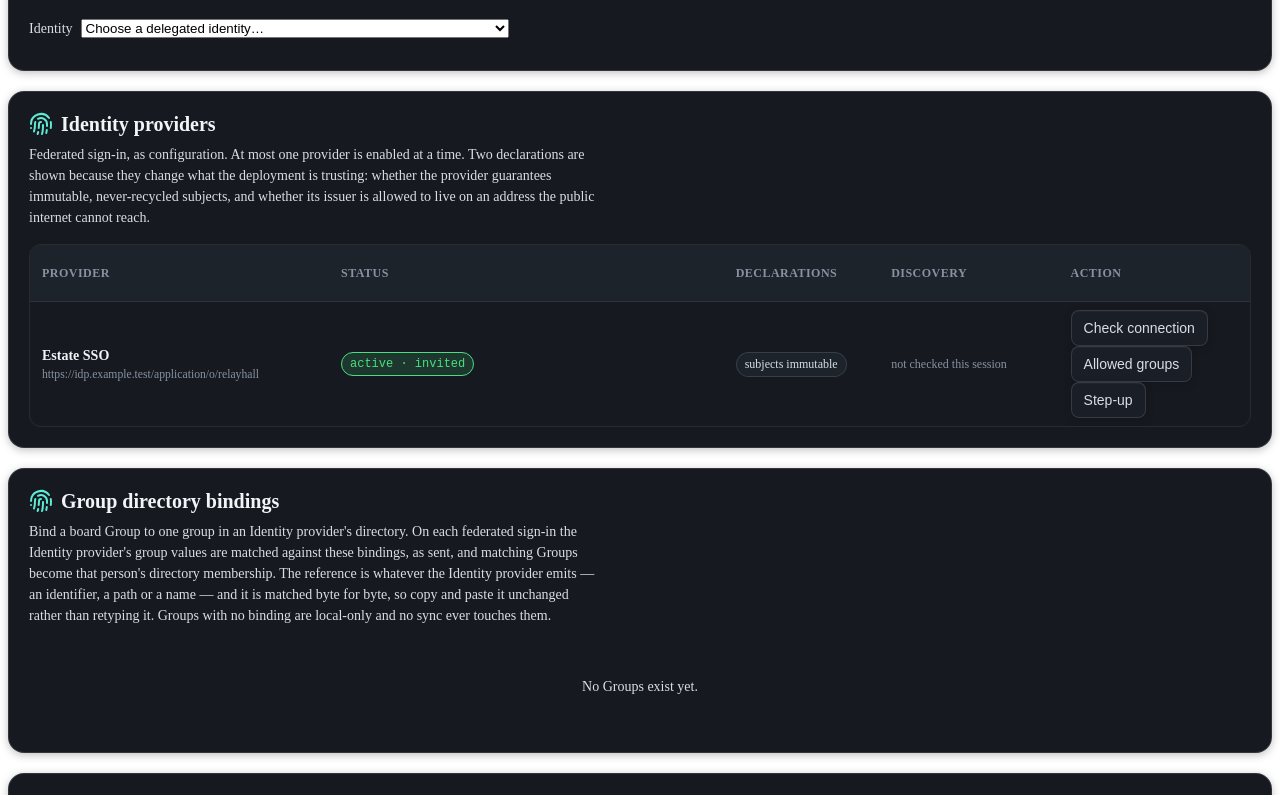
it: the fields round-trip through the PATCH › no policy shows the default request, and saving the owner's settings sends exactly them
(page scrolled)
Click the button with aria-label "Step-up for Estate SSO": (1108, 400) [1071, 382, 1146, 418]
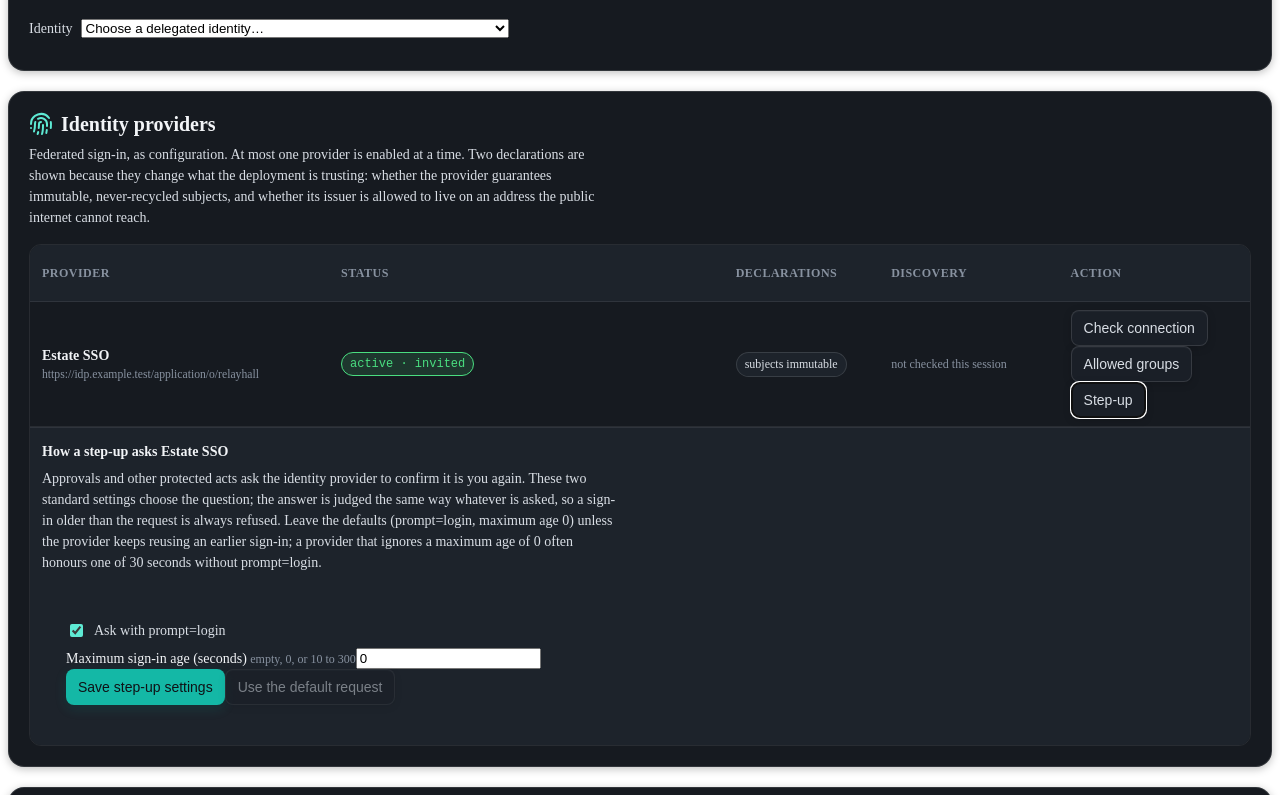
Now the checkbox labelled "Ask with prompt=login" is checked
Now the field labelled "Maximum sign-in age (seconds) empty, 0, or 10 to 300" holds "0", box [356, 648, 541, 669]
Now the button "Use the default request" is disabled, box [225, 669, 395, 705]
Click the checkbox labelled "Ask with prompt=login": (76, 630) [70, 624, 83, 637]
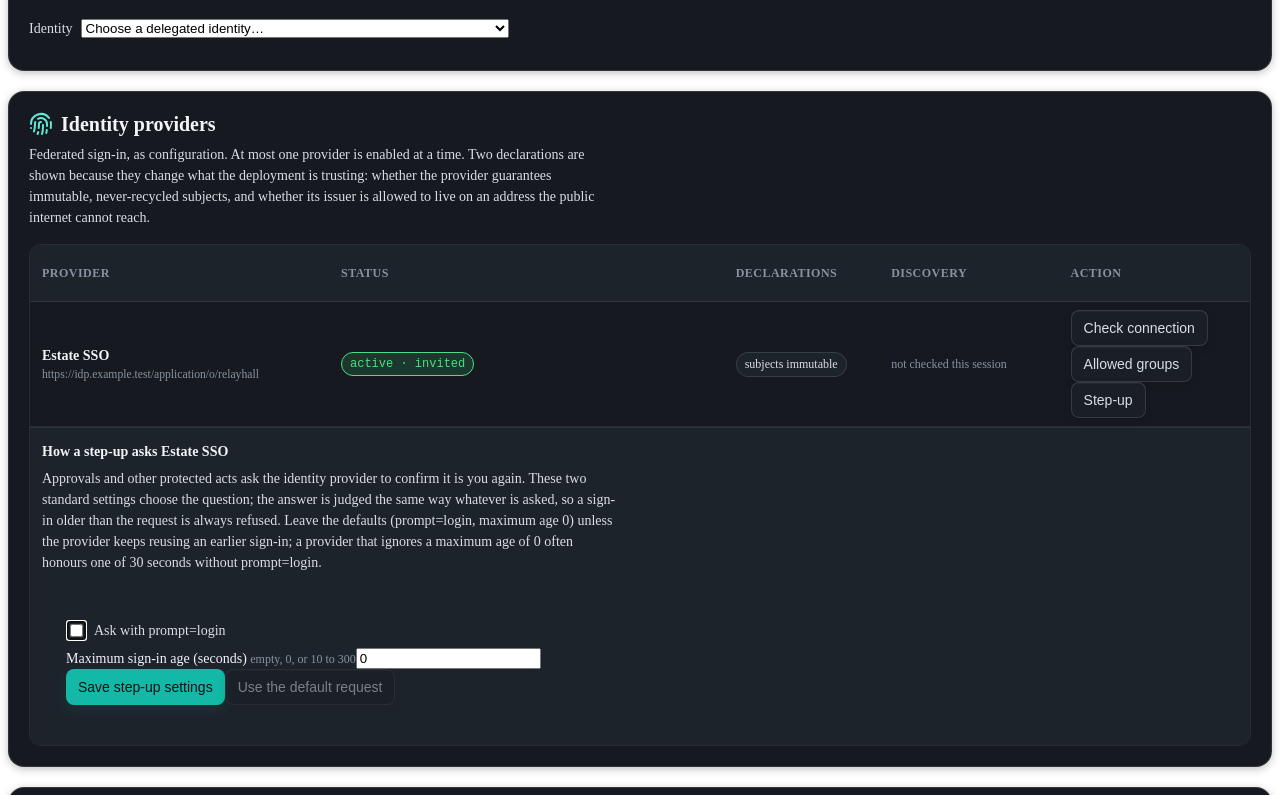
Replace the text in the field labelled "Maximum sign-in age (seconds) empty, 0, or 10 to 300" with "30": (448, 658) [356, 648, 541, 669]
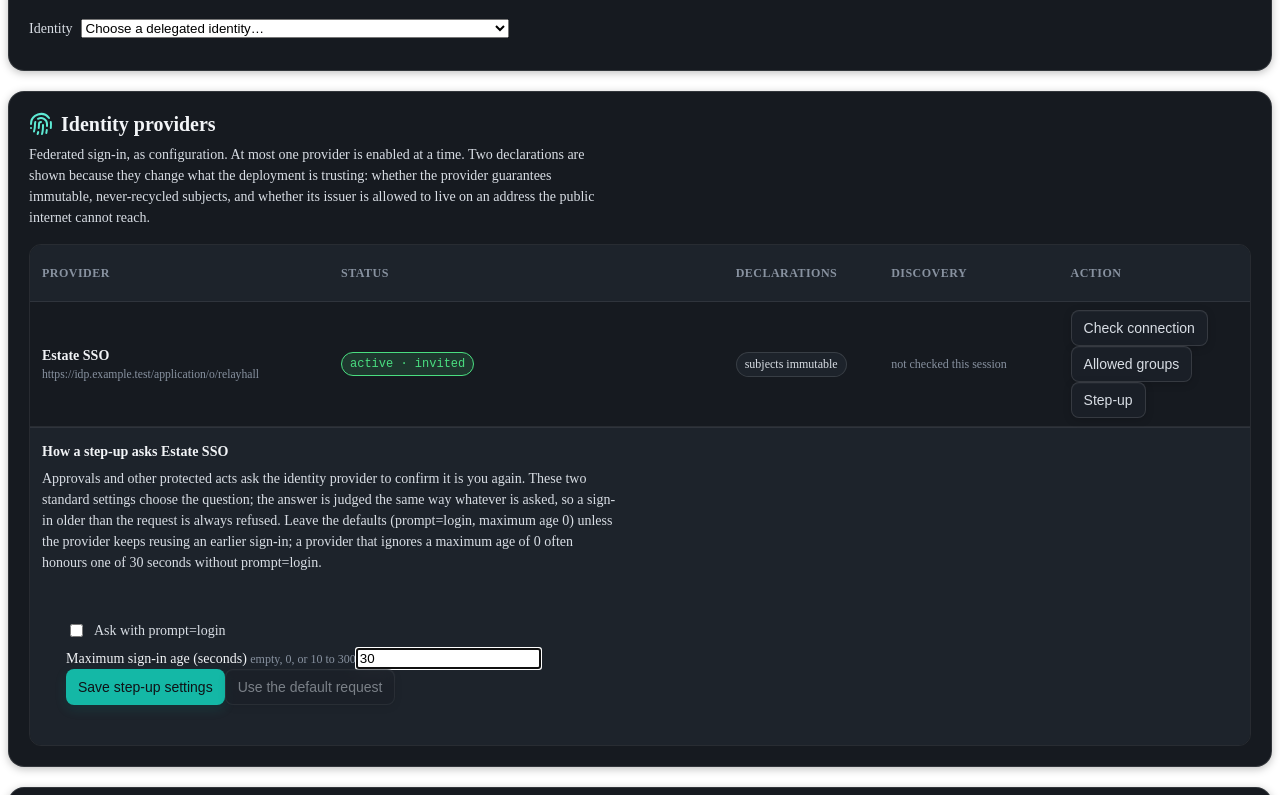
Click the button "Save step-up settings": (145, 687) [66, 669, 225, 705]
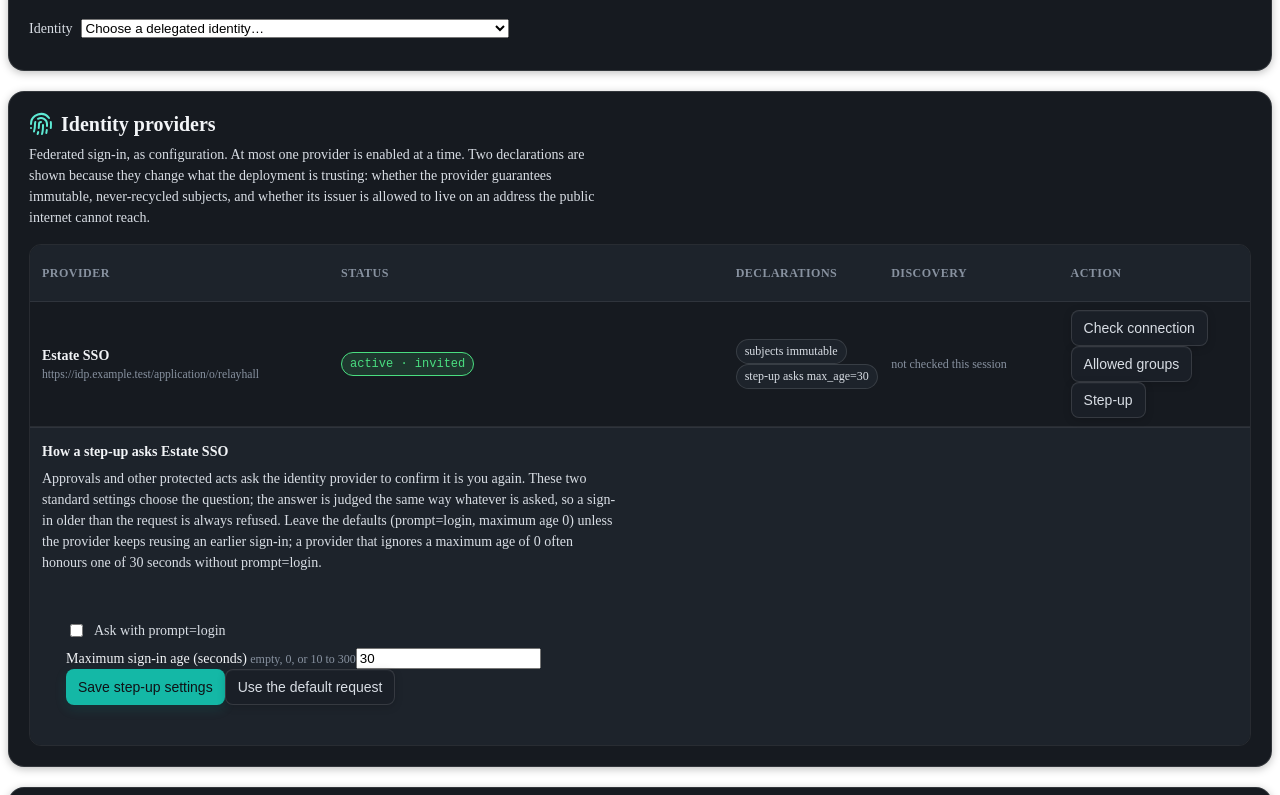
Now the text "step-up asks max_age=30" is shown, box [736, 364, 878, 389]
